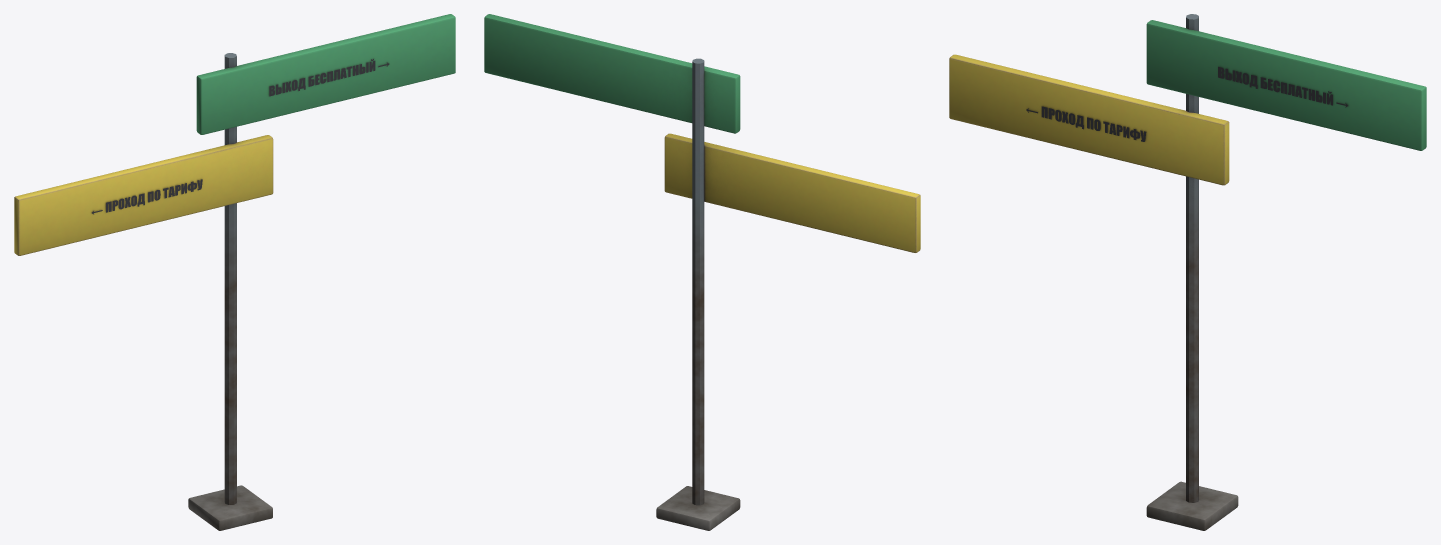
File: g67_pz_arrow_sign.glb
3 renders of one model, left to right at view 1: azimuth 30°, elevation 25°; view 2: azimuth 150°, elevation 25°; view 3: azimuth 330°, elevation 25°, orthographic. The views are drawn at different scales.
Visible parts, largest first — view 1: g67_pz_arrow_sign; view 2: g67_pz_arrow_sign; view 3: g67_pz_arrow_sign.
Part boxes in pixels (<box>): g67_pz_arrow_sign: <box>14,14,455,530</box>; g67_pz_arrow_sign: <box>484,14,920,530</box>; g67_pz_arrow_sign: <box>949,14,1426,530</box>.
Bounding box in the file's own units: 2.4 × 2.4 × 0.3.
1 material, 1 textured.
